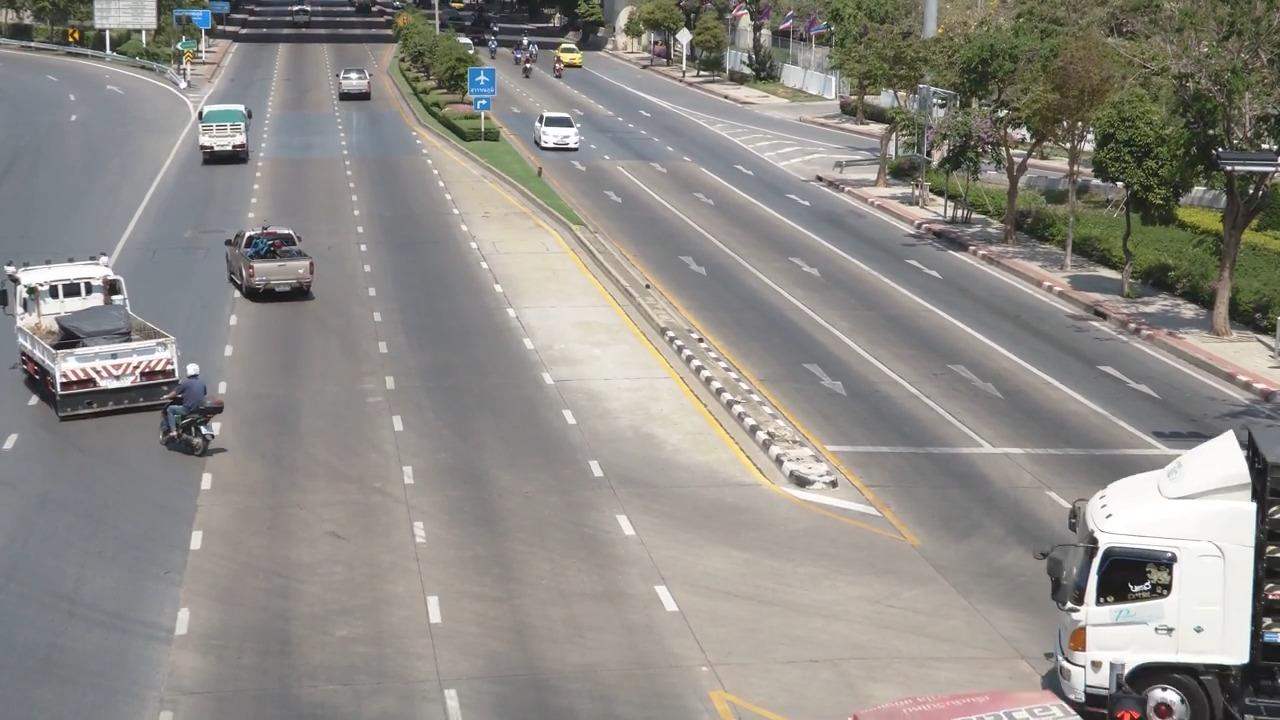CAR: (6, 246, 177, 410), (209, 220, 329, 321), (186, 97, 266, 178), (324, 59, 393, 114), (532, 105, 589, 165), (281, 0, 326, 43)
HGV_BUS: (1019, 393, 1280, 720)
MOTOR: (158, 363, 244, 473)
